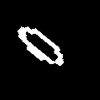chain: (18, 27, 62, 65)
